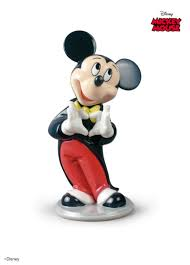mickey: (47, 31, 142, 210)
